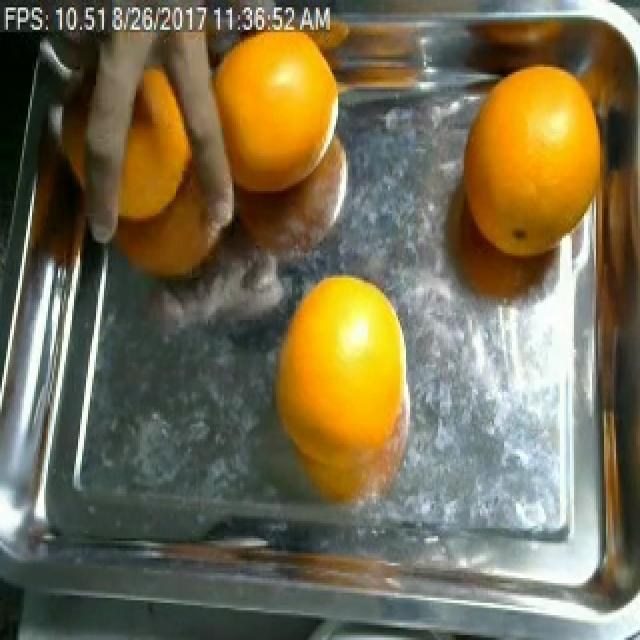Fruit: (446, 47, 604, 248), (200, 10, 350, 218), (262, 256, 412, 457)
